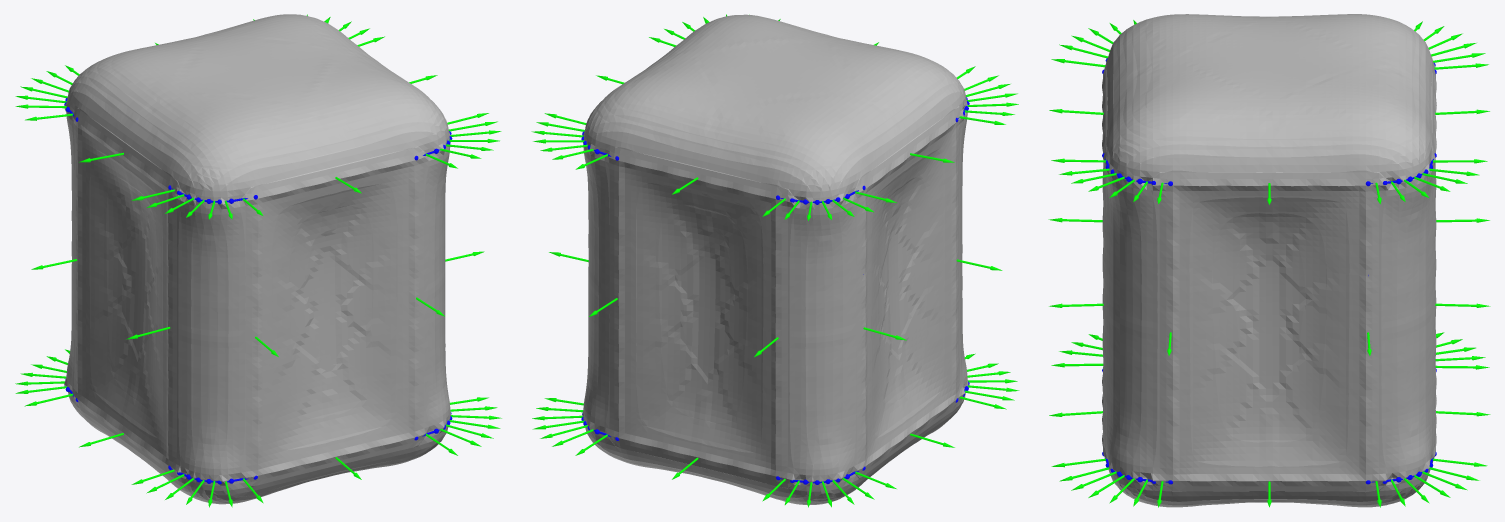
Rendered from onshape_simple_shape.gltf.
3 renders of one model, left to right at view 1: azimuth 30°, elevation 25°; view 2: azimuth 150°, elevation 25°; view 3: azimuth 270°, elevation 25°, orthographic. The views are drawn at different scales.
Size of the model in its own units: 0.7772 by 0.7856 by 0.7771.
